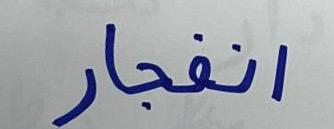feh: (174, 29, 213, 101)
jeem: (124, 53, 173, 114)
noon: (214, 30, 262, 101)
reh: (45, 61, 98, 126), (265, 38, 294, 106)
teh: (100, 17, 123, 104)
